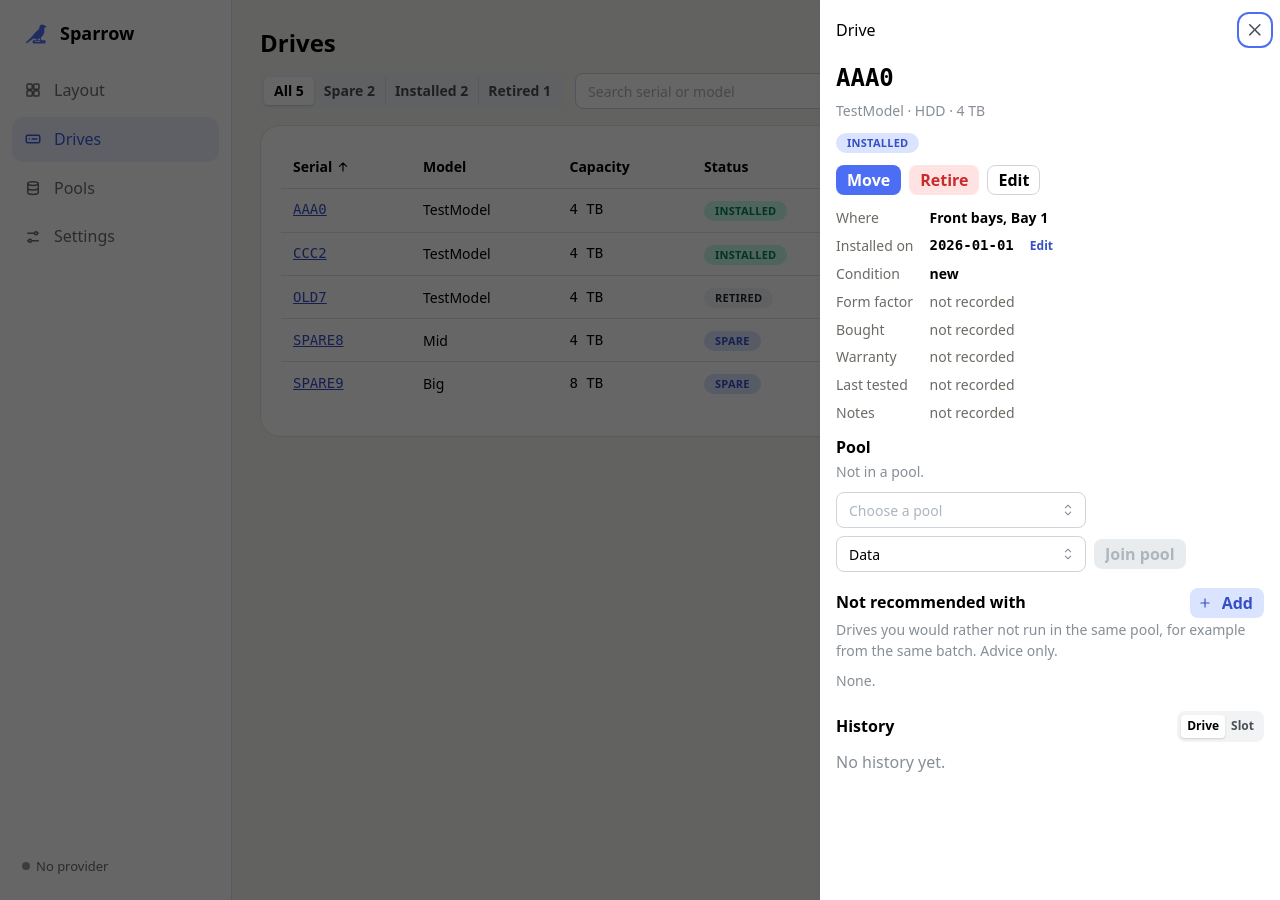
Test: R78: adding a pair from the drive detail › shows the server message when the pair is refused, and keeps the dialog open
The image size is (1280, 900).
Click the button "Add" at (1227, 603), box [1190,588,1264,618]
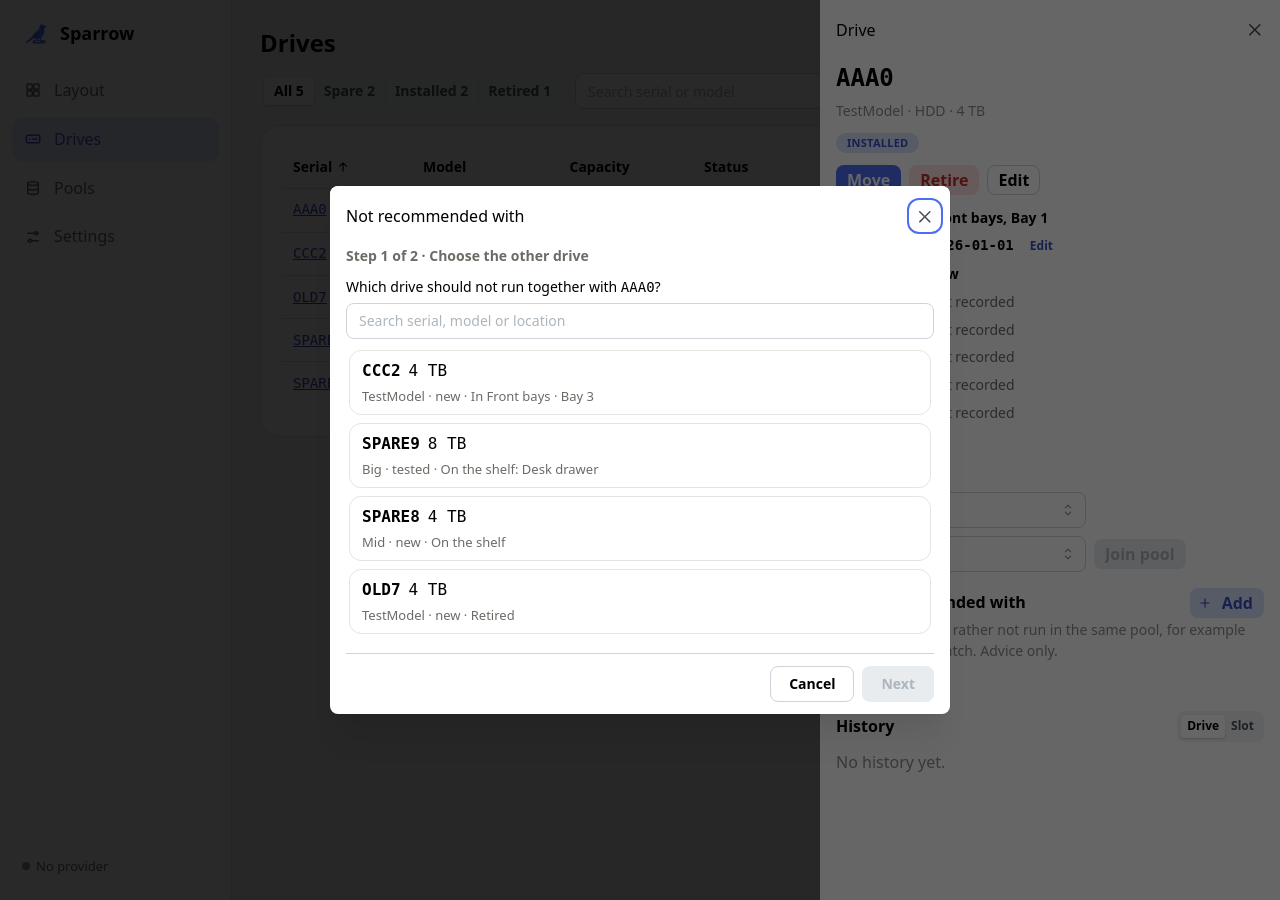
Click the radio button labelled "SPARE9 8 TB Big · tested · On the shelf: Desk drawer" at (391, 443), box [349,423,931,488]
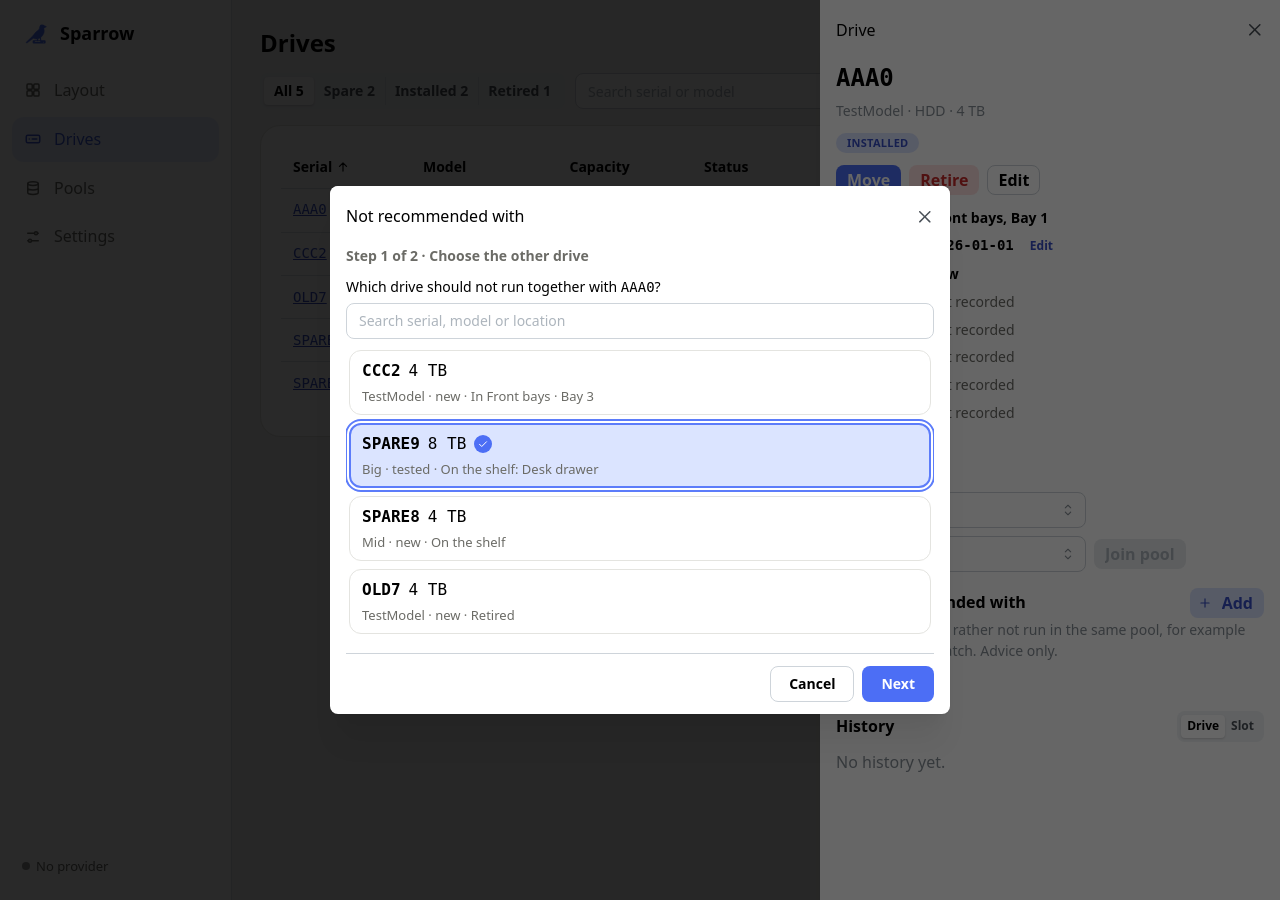
Click the button "Next" at (898, 684), box [862,666,934,702]
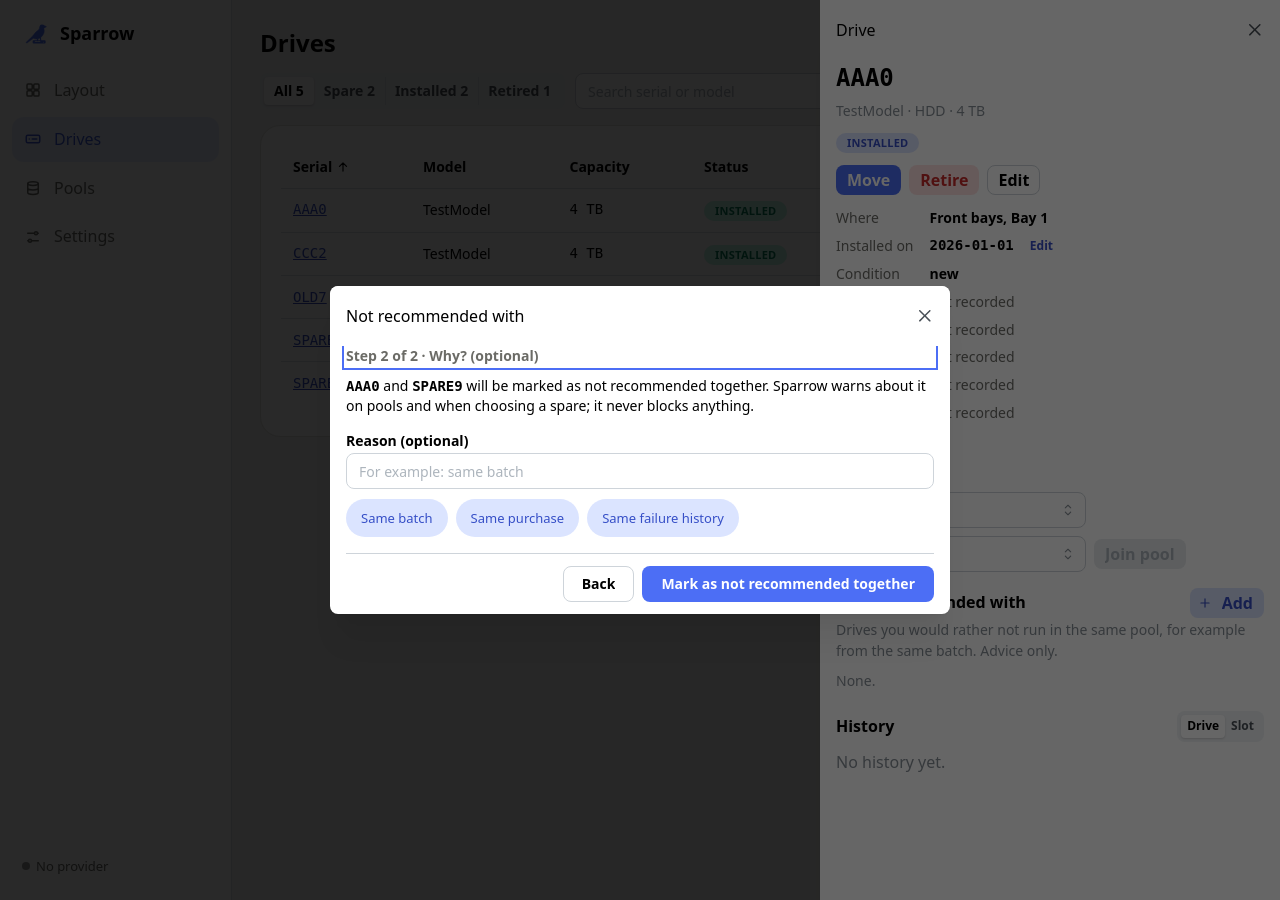
Click the button "Mark as not recommended together" at (788, 584), box [642,566,934,602]
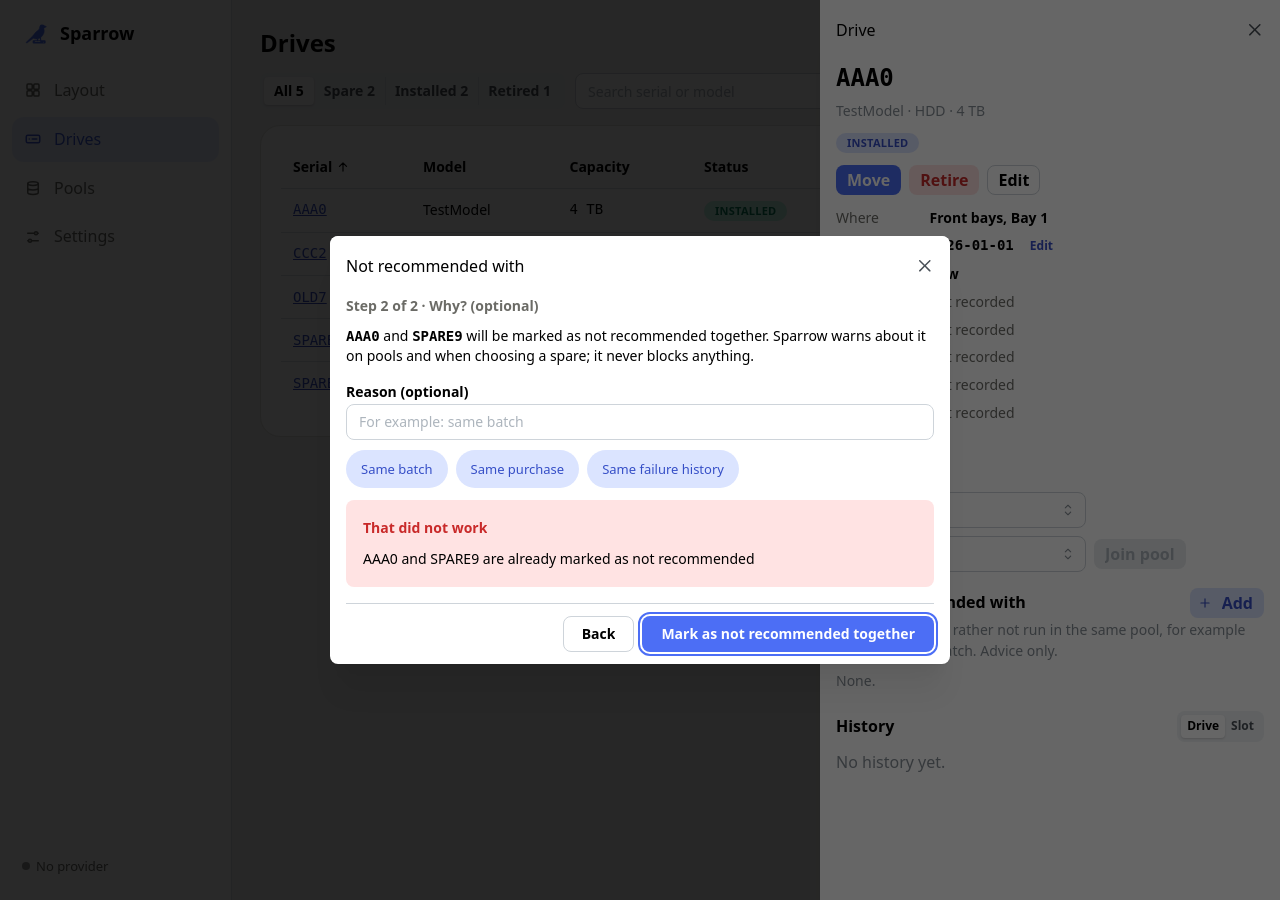
Expected: the dialog "Not recommended with" is shown, [330,236,950,664]
Expected: the message shows "already marked", [363,549,755,568]
